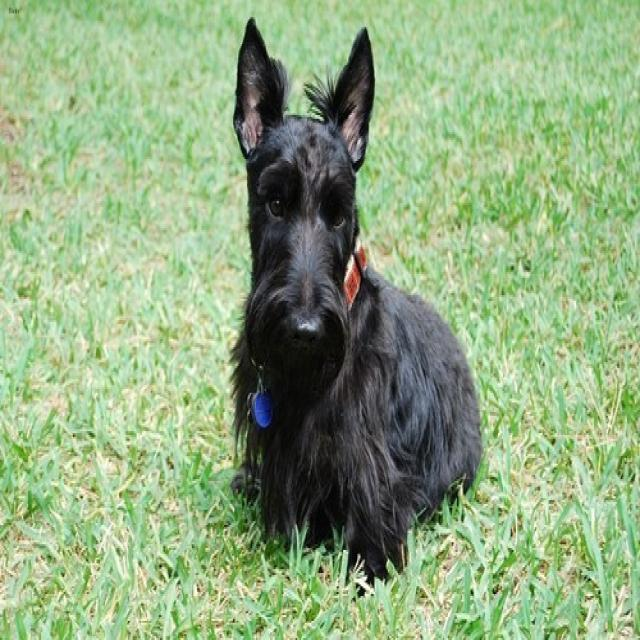dog-scottish_terrier: (224, 10, 494, 602)
